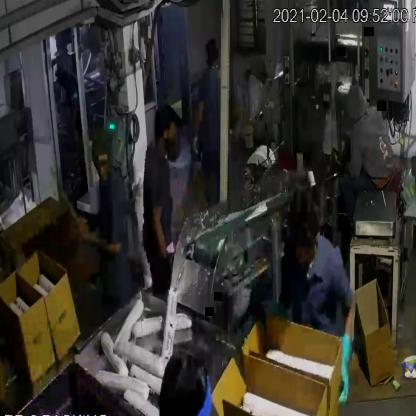glove: (339, 330, 354, 408)
no_glove: (68, 194, 126, 267), (152, 193, 174, 260), (191, 90, 208, 162)
